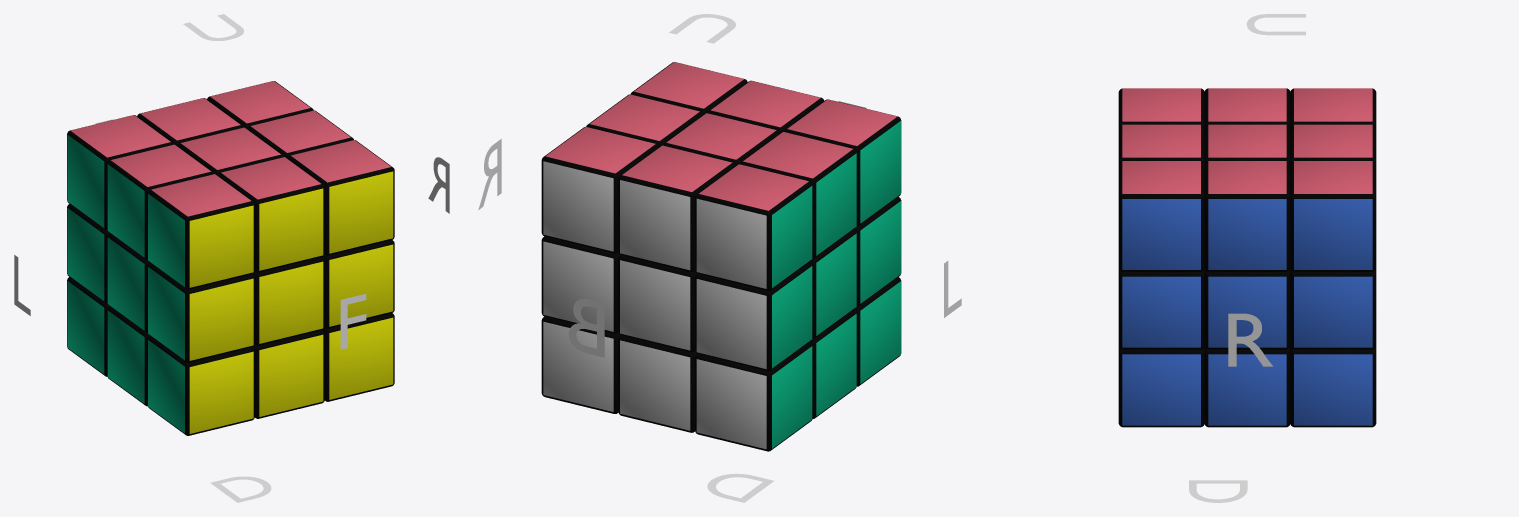
File: rubik_cube-XNA.fbx
3 renders of one model, left to right at view 1: azimuth 30°, elevation 25°; view 2: azimuth 150°, elevation 25°; view 3: azimuth 270°, elevation 25°, orthographic. The views are drawn at different scales.
Visible parts, largest first — view 1: Cube.UFL, Cube.LF, Cube.DLF, Cube.URF, Cube.UF, Cube.UL, Cube.ULB, Cube.F, Cube.DF, Cube.DFR, Cube.RF, Cube.DBL (+10 smaller); view 2: Cube.ULB, Cube.DBL, Cube.LB, Cube.UBR, Cube.UB, Cube.UL, Cube.UFL, Cube.DB, Cube.B, Cube.DRB, Cube.RB, Cube.DLF (+11 smaller); view 3: Cube.URF, Cube.UBR, Cube.UR, Cube.DRB, Cube.DFR, Cube.RB, Cube.RF, Cube.DR, Cube.R, Cube.UF, Cube.UB, Cube.UFL (+6 smaller).
Boxes of the visible parts, x1,y1,x2,y2 form: Cube.UFL: (147, 174, 254, 289); Cube.LF: (147, 263, 254, 362); Cube.DLF: (147, 336, 254, 435); Cube.URF: (287, 140, 394, 255); Cube.UF: (218, 157, 324, 272); Cube.UL: (107, 144, 214, 260); Cube.ULB: (67, 115, 173, 230); Cube.F: (253, 257, 324, 345); Cube.DF: (253, 330, 324, 418); Cube.DFR: (323, 313, 394, 401); Cube.RF: (323, 240, 394, 328); Cube.DBL: (67, 277, 109, 376); Cube.ULB: (695, 164, 812, 290); Cube.DBL: (695, 342, 812, 451); Cube.LB: (695, 262, 812, 371); Cube.UBR: (541, 126, 658, 253); Cube.UB: (618, 145, 735, 272); Cube.UL: (739, 131, 856, 258); Cube.UFL: (784, 99, 901, 226); Cube.DB: (618, 335, 697, 432); Cube.B: (618, 255, 696, 352); Cube.DRB: (541, 317, 620, 413); Cube.RB: (541, 236, 620, 333); Cube.DLF: (854, 277, 901, 386); Cube.URF: (1118, 160, 1204, 271); Cube.UBR: (1290, 160, 1376, 271); Cube.UR: (1204, 160, 1290, 271); Cube.DRB: (1290, 346, 1376, 427); Cube.DFR: (1118, 346, 1204, 427); Cube.RB: (1290, 269, 1376, 349); Cube.RF: (1118, 269, 1204, 349); Cube.DR: (1204, 347, 1290, 427); Cube.R: (1204, 269, 1290, 349); Cube.UF: (1118, 124, 1204, 163); Cube.UB: (1290, 124, 1376, 163); Cube.UFL: (1118, 88, 1204, 127).
Size of the model in its own units: 6 by 6 by 6.
